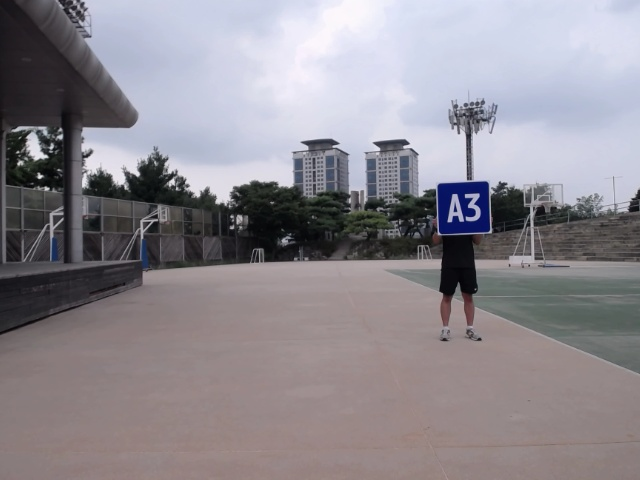delivery_a3: (437, 179, 491, 235)
